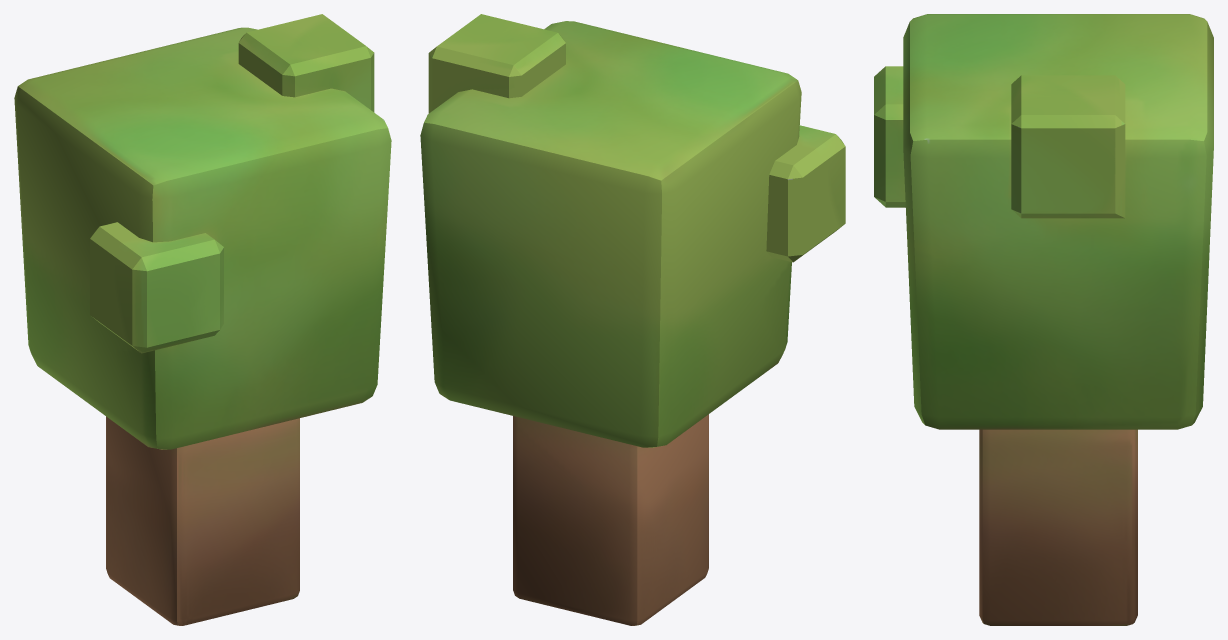
Rendered from tree 4.fbx.
3 renders of one model, left to right at view 1: azimuth 30°, elevation 25°; view 2: azimuth 150°, elevation 25°; view 3: azimuth 270°, elevation 25°, orthographic. The views are drawn at different scales.
Parts seen in each view (by area): view 1: Cube.001; view 2: Cube.001; view 3: Cube.001.
Boxes of the visible parts, x1,y1,x2,y2 form: Cube.001: (14, 14, 391, 625); Cube.001: (420, 14, 845, 625); Cube.001: (874, 14, 1213, 625).
Bounding box in the file's own units: 188 × 306 × 169.
